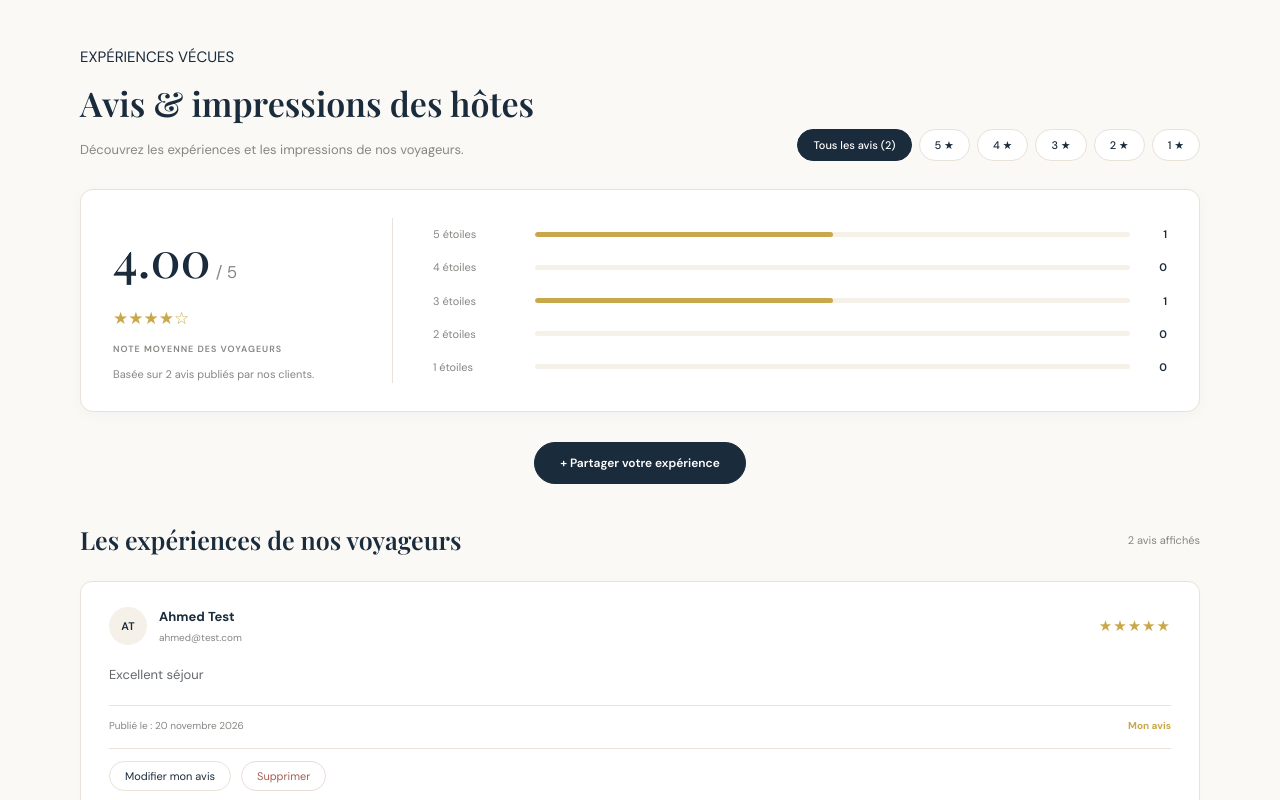
Test case: ClientAvisPage › gère une erreur lors de la publication
Expected: the text "Excellent séjour" is shown, [109,666,204,684]
Click the button "+ Partager votre expérience".
click(640, 463)  # box [534,442,746,484]
(page scrolled)
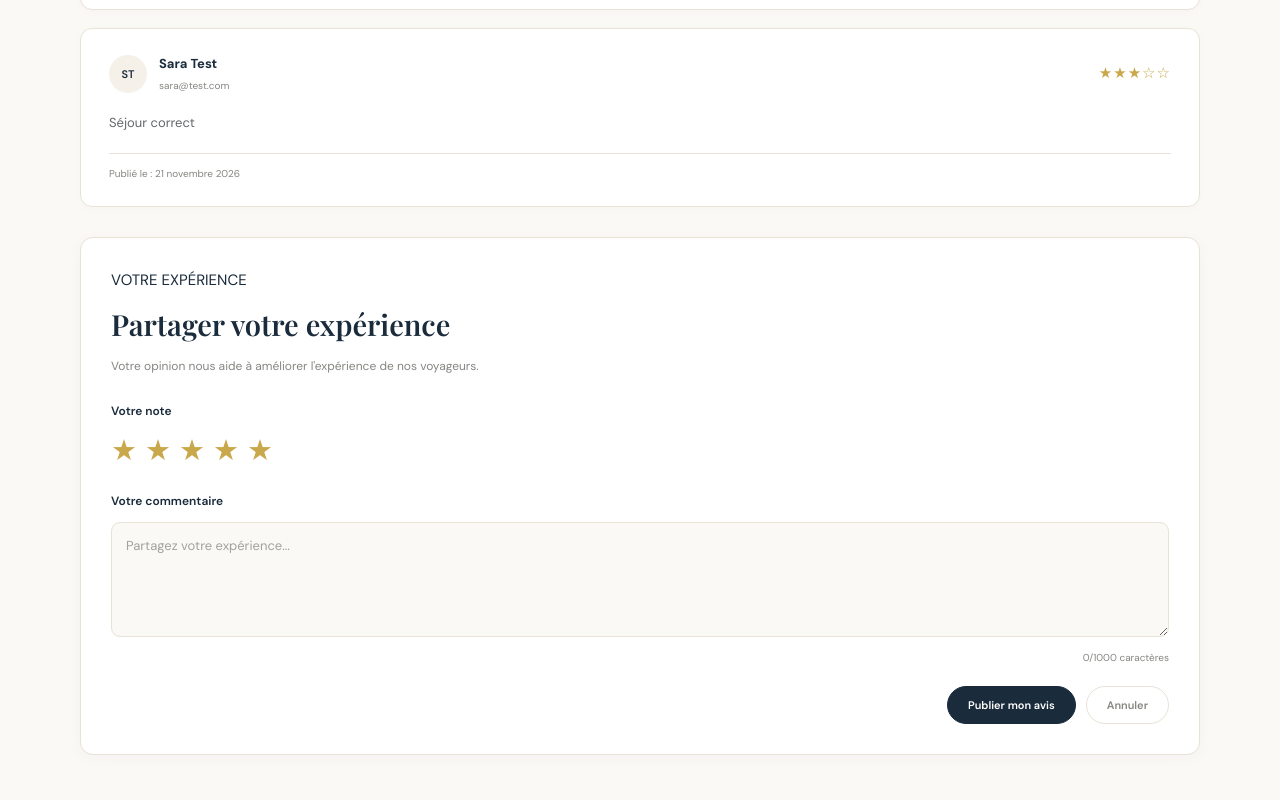
Type "Mon commentaire" into the text box labelled "Votre commentaire".
click(640, 580); type("Mon commentaire")  # box [111,522,1169,637]
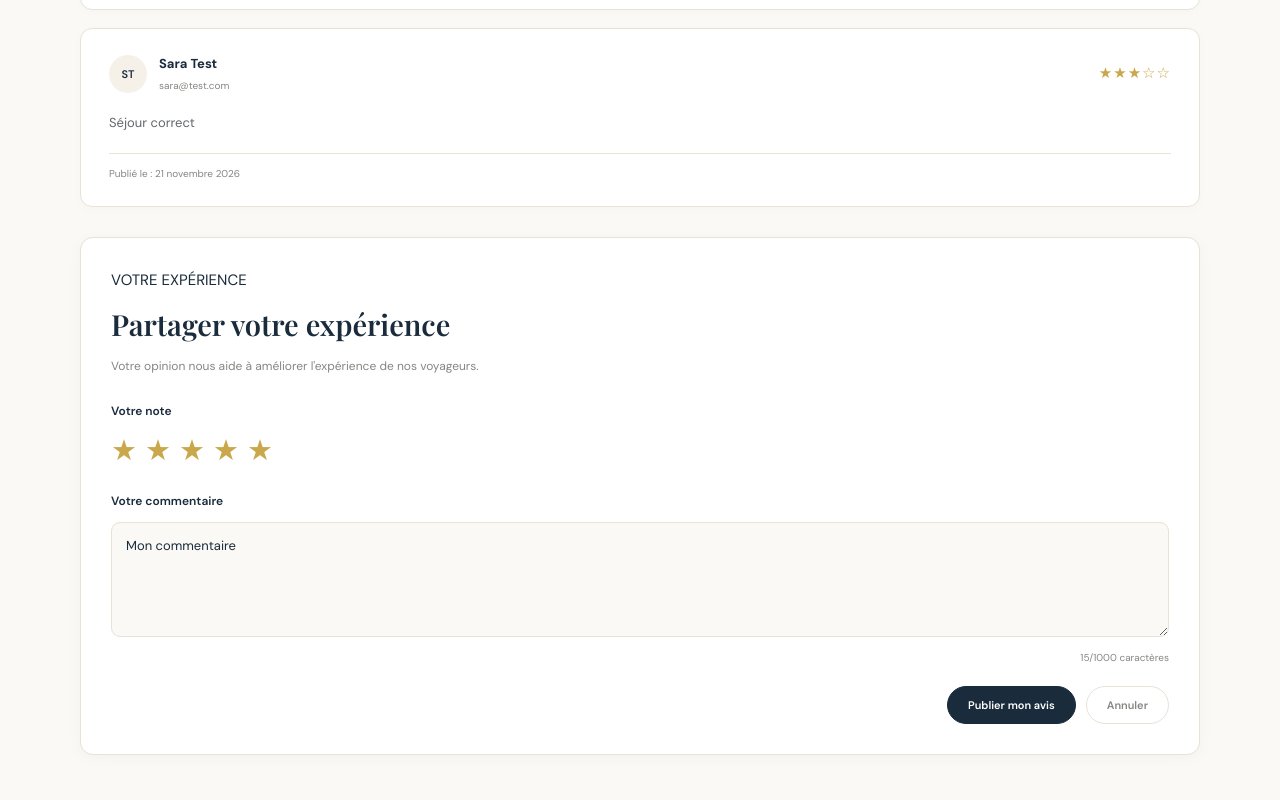
Click the button "Publier mon avis".
click(1011, 705)  # box [947,686,1076,724]
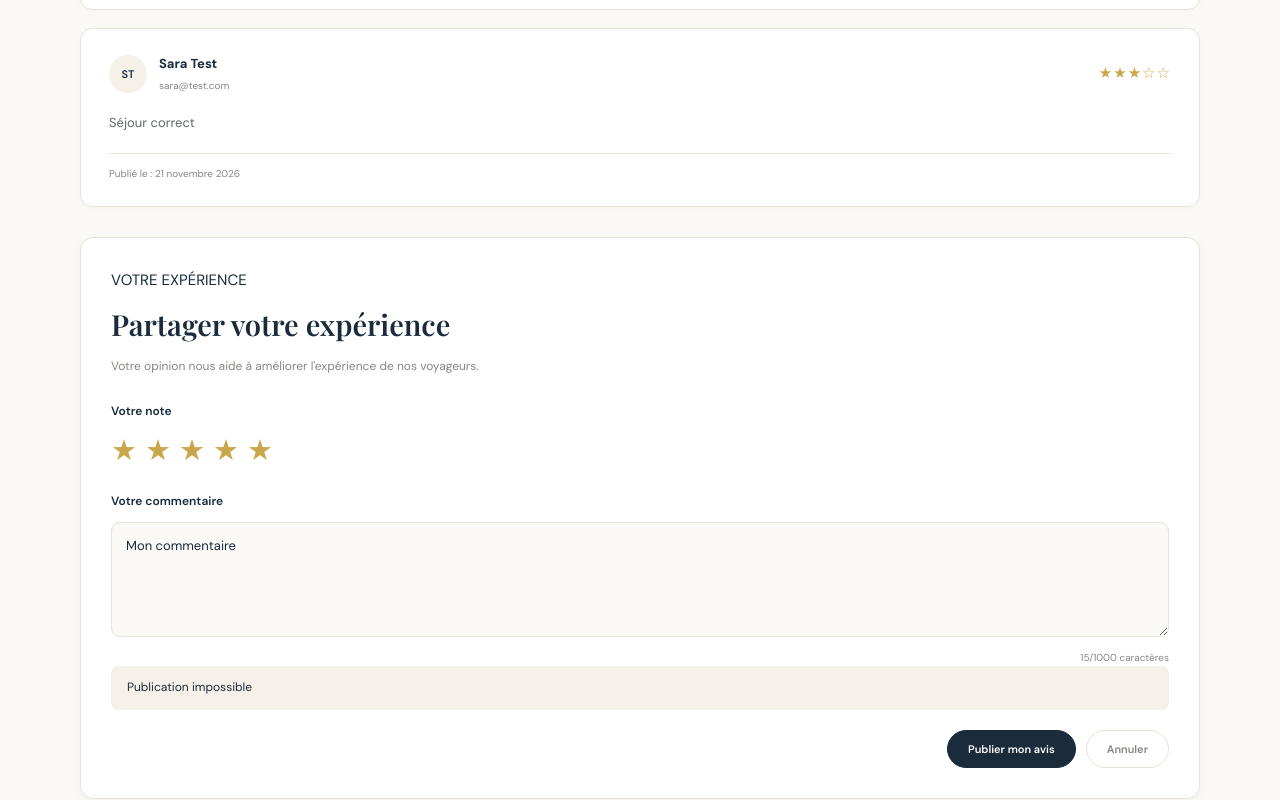
Expected: the text "Publication impossible" is shown, [111,666,1169,710]
